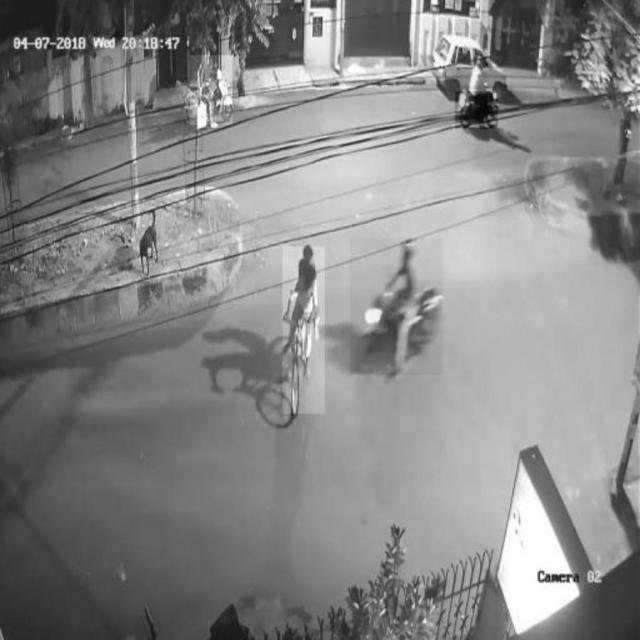vehicle: (350, 237, 442, 375), (283, 247, 325, 414), (430, 27, 507, 91), (191, 55, 233, 126), (456, 62, 498, 129)
